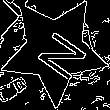N_NW: (23, 19, 85, 81)
